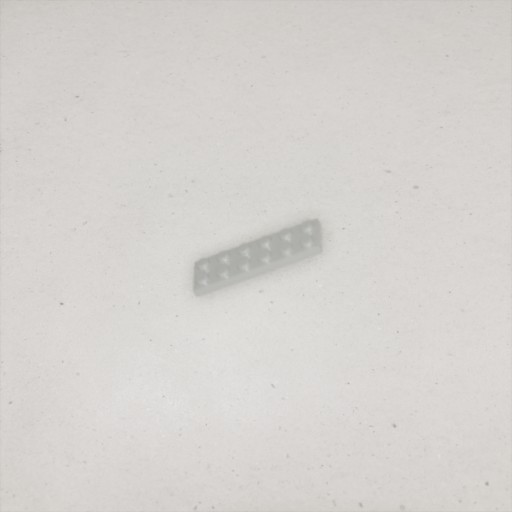lego: (192, 217, 322, 298)
